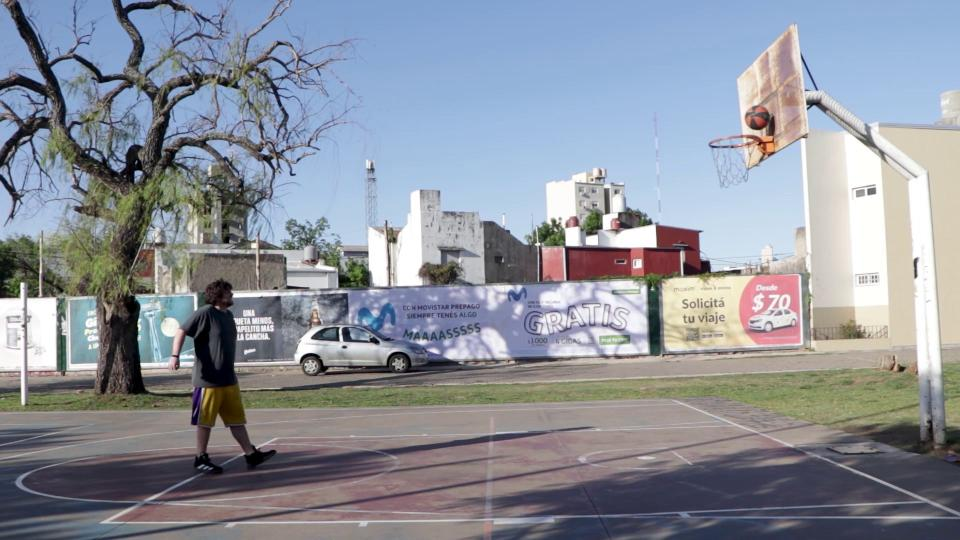hoop: (707, 132, 782, 160)
